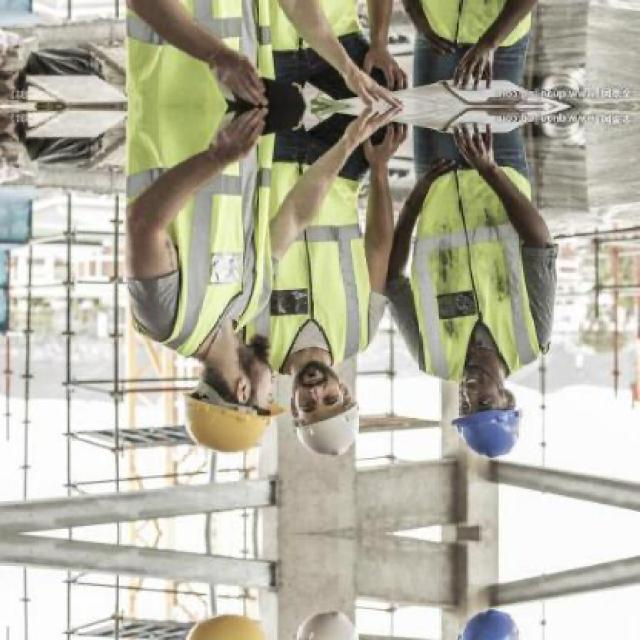con casco: (168, 344, 301, 476), (418, 363, 535, 470), (288, 361, 362, 460)
